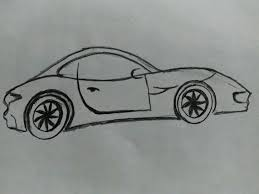car: (0, 39, 255, 138)
